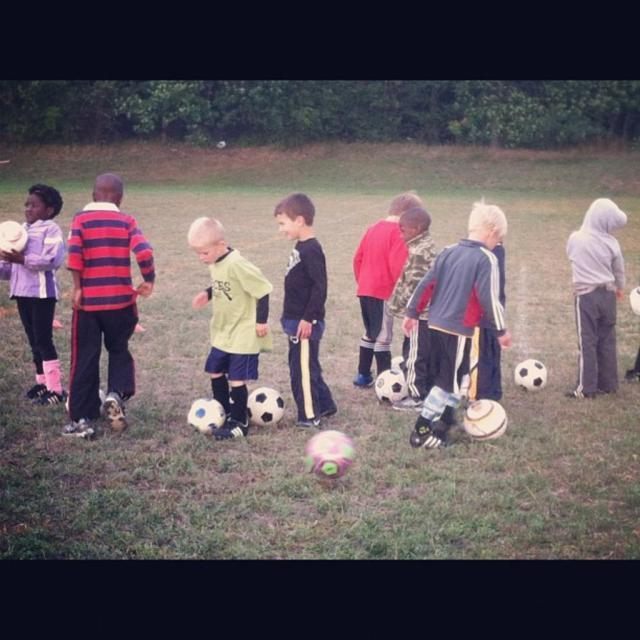football: (175, 386, 238, 455), (307, 426, 365, 486), (460, 394, 517, 451), (245, 380, 294, 444), (369, 363, 410, 408), (513, 354, 553, 399)
